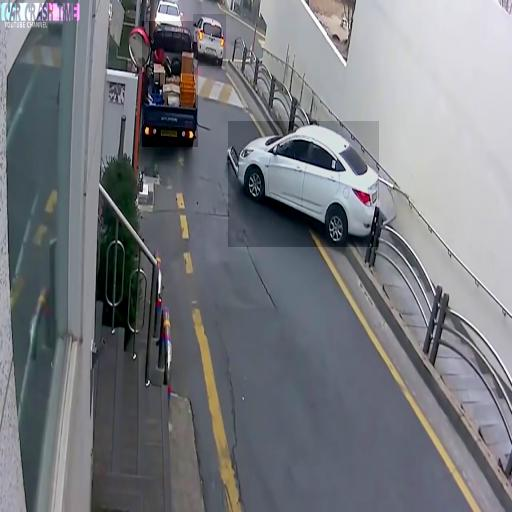小汽车: (228, 121, 379, 247), (142, 22, 198, 148), (193, 14, 226, 66)
